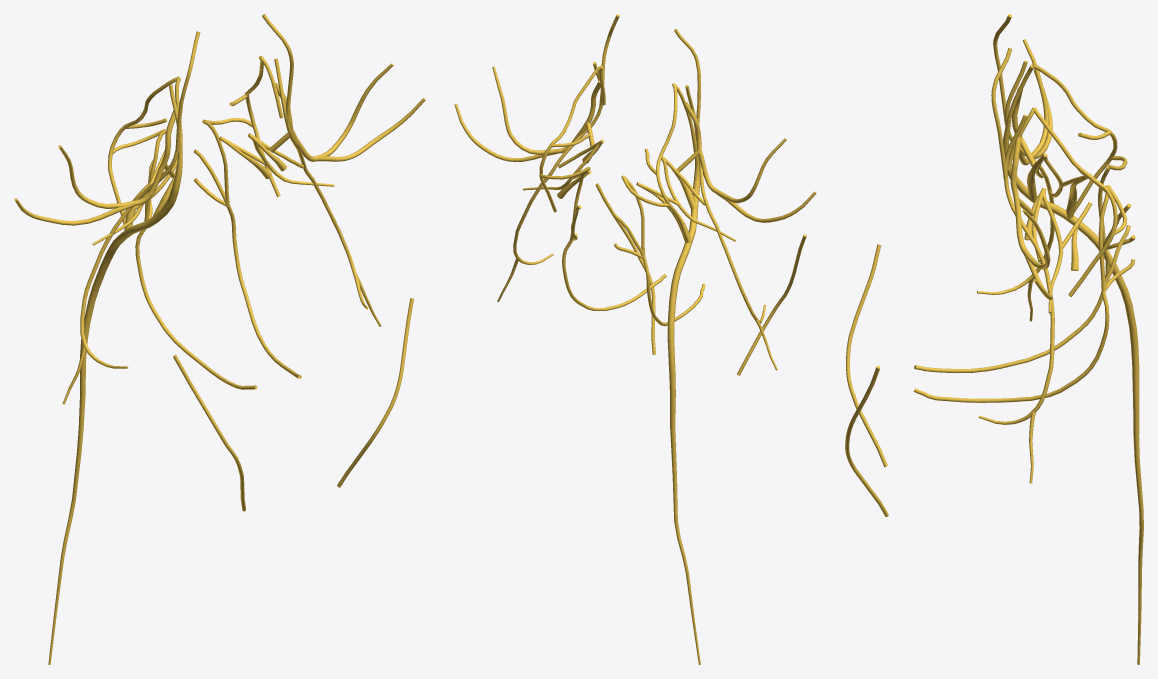
The model's file is nervous_peripheral.pelvis.glb.
3 renders of one model, left to right at view 1: azimuth 30°, elevation 25°; view 2: azimuth 150°, elevation 25°; view 3: azimuth 270°, elevation 25°, orthographic. The views are drawn at different scales.
Parts seen in each view (by area): view 1: right_posterior_femoral_cutaneous_nerve, right_nerve_to_quadratus_femoris_muscle, left_nerve_to_quadratus_femoris_muscle, right_superior_gluteal_nerve, left_pudendal_nerve, left_superior_gluteal_nerve, right_pudendal_nerve, right_posterior_root_of_posterior_femoral_cutaneous_nerve, left_medial_crural_cutaneous_branches_of_saphenous_nerve, left_anterior_root_of_posterior_femoral_cutaneous_nerve, left_posterior_root_of_posterior_femoral_cutaneous_nerve, right_medial_crural_cutaneous_branches_of_saphenous_nerve; view 2: right_posterior_femoral_cutaneous_nerve, right_nerve_to_quadratus_femoris_muscle, right_superior_gluteal_nerve, left_superior_gluteal_nerve, left_nerve_to_quadratus_femoris_muscle, right_pudendal_nerve, right_posterior_root_of_posterior_femoral_cutaneous_nerve, left_posterior_root_of_posterior_femoral_cutaneous_nerve, left_pudendal_nerve, left_medial_crural_cutaneous_branches_of_saphenous_nerve, right_medial_crural_cutaneous_branches_of_saphenous_nerve, right_nerve_to_piriformis_muscle; view 3: right_posterior_femoral_cutaneous_nerve, left_nerve_to_quadratus_femoris_muscle, left_pudendal_nerve, right_nerve_to_quadratus_femoris_muscle, right_pudendal_nerve, left_superior_gluteal_nerve, left_posterior_root_of_posterior_femoral_cutaneous_nerve, right_superior_gluteal_nerve, right_posterior_root_of_posterior_femoral_cutaneous_nerve, right_medial_crural_cutaneous_branches_of_saphenous_nerve, left_medial_crural_cutaneous_branches_of_saphenous_nerve, left_nerve_to_piriformis_muscle (+2 smaller).
Part boxes in pixels (left/top/right/bottom): right_posterior_femoral_cutaneous_nerve: left=48, top=142, right=182, bottom=664; right_nerve_to_quadratus_femoris_muscle: left=62, top=31, right=200, bottom=404; left_nerve_to_quadratus_femoris_muscle: left=249, top=14, right=381, bottom=326; right_superior_gluteal_nerve: left=14, top=108, right=178, bottom=225; left_pudendal_nerve: left=193, top=120, right=301, bottom=378; left_superior_gluteal_nerve: left=269, top=63, right=425, bottom=161; right_pudendal_nerve: left=135, top=129, right=257, bottom=389; right_posterior_root_of_posterior_femoral_cutaneous_nerve: left=108, top=76, right=179, bottom=224; left_medial_crural_cutaneous_branches_of_saphenous_nerve: left=337, top=298, right=413, bottom=487; left_anterior_root_of_posterior_femoral_cutaneous_nerve: left=219, top=56, right=286, bottom=178; left_posterior_root_of_posterior_femoral_cutaneous_nerve: left=202, top=56, right=280, bottom=196; right_medial_crural_cutaneous_branches_of_saphenous_nerve: left=173, top=355, right=245, bottom=511; right_posterior_femoral_cutaneous_nerve: left=667, top=127, right=700, bottom=664; right_nerve_to_quadratus_femoris_muscle: left=662, top=29, right=777, bottom=370; right_superior_gluteal_nerve: left=676, top=102, right=816, bottom=222; left_superior_gluteal_nerve: left=454, top=66, right=601, bottom=161; left_nerve_to_quadratus_femoris_muscle: left=497, top=14, right=619, bottom=301; right_pudendal_nerve: left=614, top=175, right=705, bottom=326; right_posterior_root_of_posterior_femoral_cutaneous_nerve: left=621, top=83, right=688, bottom=241; left_posterior_root_of_posterior_femoral_cutaneous_nerve: left=539, top=66, right=601, bottom=212; left_pudendal_nerve: left=562, top=166, right=666, bottom=310; left_medial_crural_cutaneous_branches_of_saphenous_nerve: left=595, top=183, right=655, bottom=354; right_medial_crural_cutaneous_branches_of_saphenous_nerve: left=737, top=234, right=806, bottom=375; right_nerve_to_piriformis_muscle: left=637, top=156, right=735, bottom=241; right_posterior_femoral_cutaneous_nerve: left=1003, top=118, right=1143, bottom=664; left_nerve_to_quadratus_femoris_muscle: left=978, top=48, right=1054, bottom=483; left_pudendal_nerve: left=914, top=185, right=1135, bottom=402; right_nerve_to_quadratus_femoris_muscle: left=977, top=14, right=1054, bottom=321; right_pudendal_nerve: left=914, top=164, right=1135, bottom=372; left_superior_gluteal_nerve: left=1010, top=137, right=1052, bottom=299; left_posterior_root_of_posterior_femoral_cutaneous_nerve: left=1033, top=107, right=1127, bottom=297; right_superior_gluteal_nerve: left=1012, top=39, right=1052, bottom=166; right_posterior_root_of_posterior_femoral_cutaneous_nerve: left=1032, top=64, right=1127, bottom=212; right_medial_crural_cutaneous_branches_of_saphenous_nerve: left=846, top=244, right=887, bottom=467; left_medial_crural_cutaneous_branches_of_saphenous_nerve: left=845, top=365, right=888, bottom=516; left_nerve_to_piriformis_muscle: left=1042, top=188, right=1091, bottom=313.
Bounding box in the file's own units: 0.2384 × 0.3642 × 0.1417.
